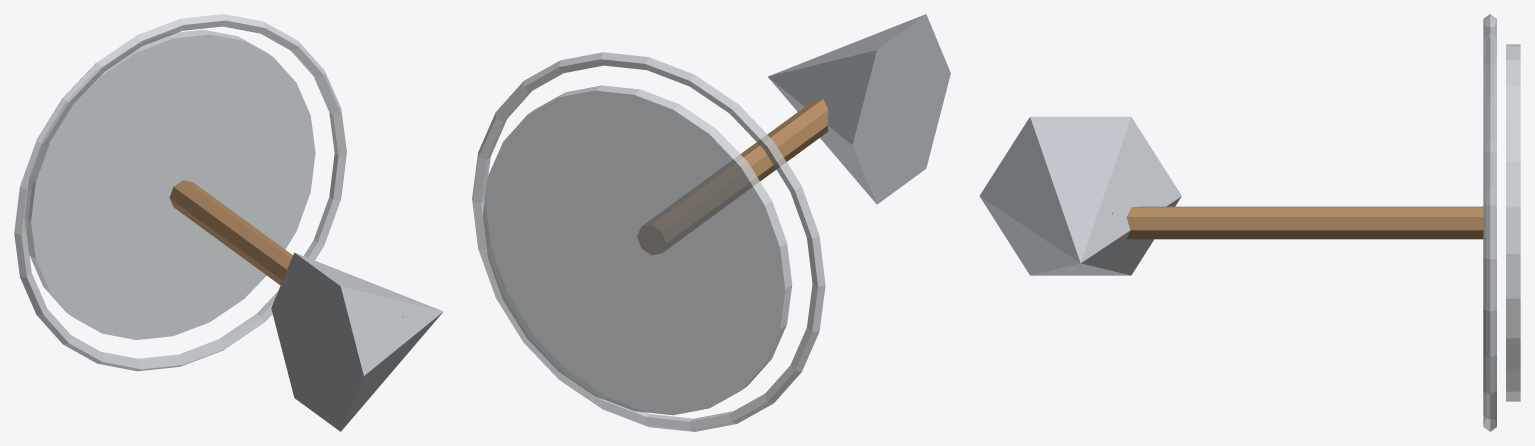
File: weapon_pickup_hand_axe_common.glb
3 views of the same model, side by side, from view 1: azimuth 30°, elevation 25°; view 2: azimuth 150°, elevation 25°; view 3: azimuth 270°, elevation 25° (orthographic). The views are drawn at different scales.
Parts seen in each view (by area): view 1: rarity_base_disc, blade_left, rarity_orbit_ring, haft; view 2: rarity_base_disc, blade_left, rarity_orbit_ring, haft; view 3: blade_left, haft, rarity_orbit_ring, rarity_base_disc.
Boxes of the visible parts, <box> form: rarity_base_disc: <box>25,29,315,339</box>; blade_left: <box>271,252,443,431</box>; rarity_orbit_ring: <box>14,14,346,371</box>; haft: <box>169,180,292,285</box>; rarity_base_disc: <box>483,85,792,415</box>; blade_left: <box>768,14,950,204</box>; rarity_orbit_ring: <box>472,52,825,431</box>; haft: <box>637,99,828,254</box>; blade_left: <box>979,116,1181,275</box>; haft: <box>1126,206,1483,239</box>; rarity_orbit_ring: <box>1483,14,1496,431</box>; rarity_base_disc: <box>1506,44,1520,401</box>.
Bounding box in the file's own units: 1.45 × 1.45 × 1.87.
